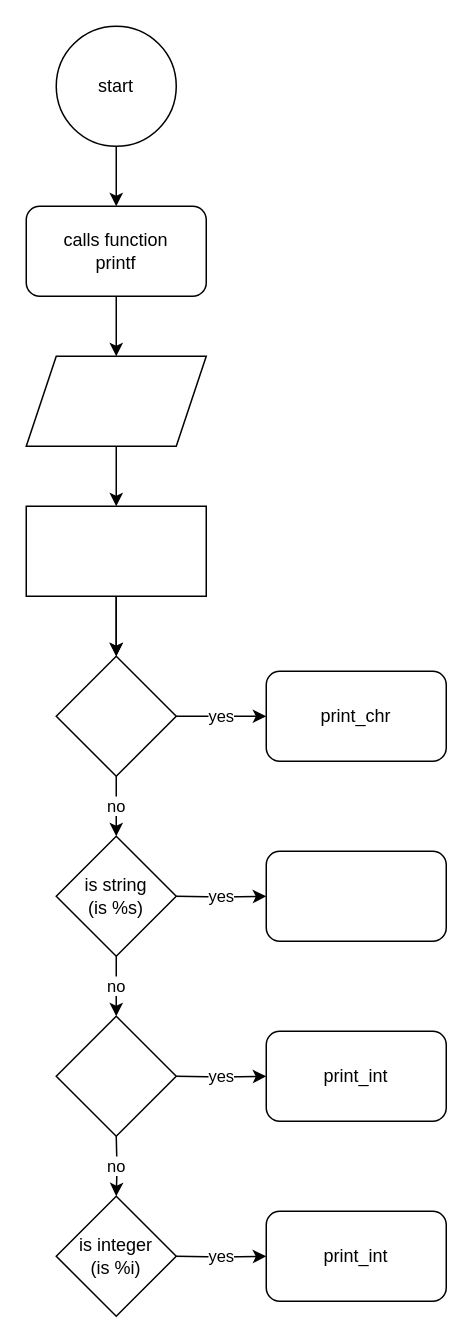
The diagram is 473 pixels wide and 1343 high, and some of its shapes have lost their labels. Each missing label, with the box of its shape:
asks for parameters %: (25, 355, 206, 446)
is char (is %c): (55, 655, 176, 776)
is decimal (is %d): (55, 1015, 176, 1136)
print_str: (265, 850, 446, 941)
